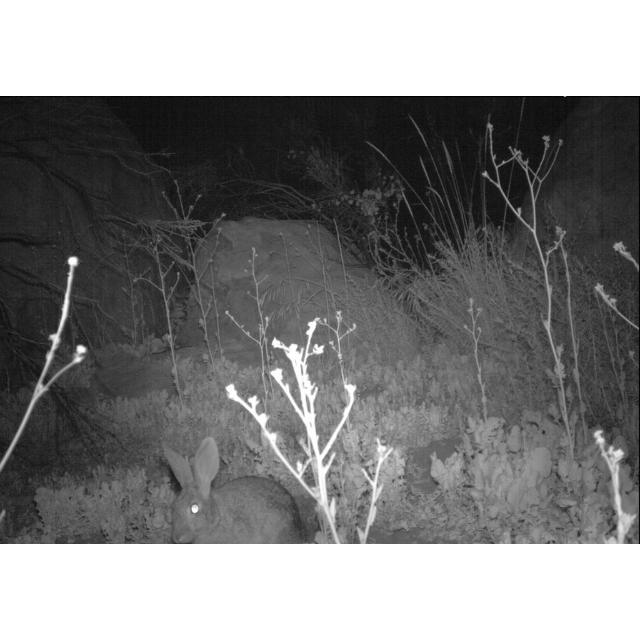animals: (160, 441, 308, 545)
